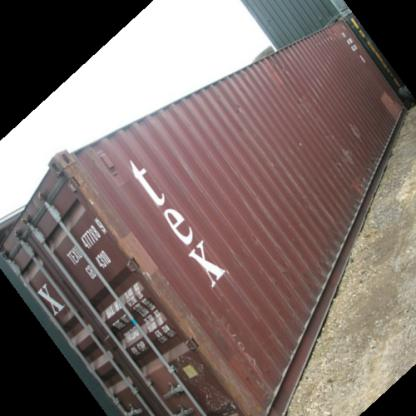Damage: (170, 298, 274, 398), (54, 152, 130, 236), (332, 115, 372, 173), (262, 51, 311, 87), (286, 129, 310, 171), (228, 94, 255, 128)
